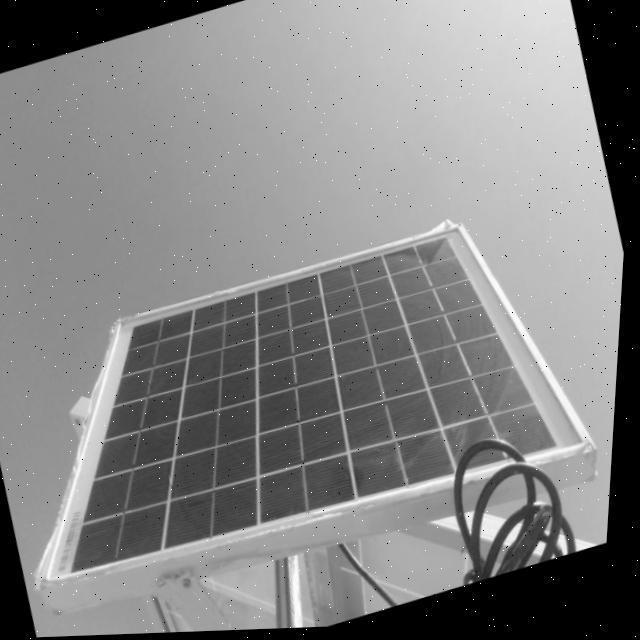Normal Solar Panel: (0, 198, 607, 612)
